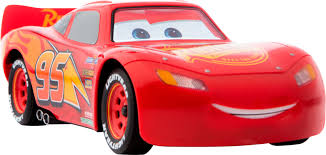mcqueen: (1, 1, 325, 154)
